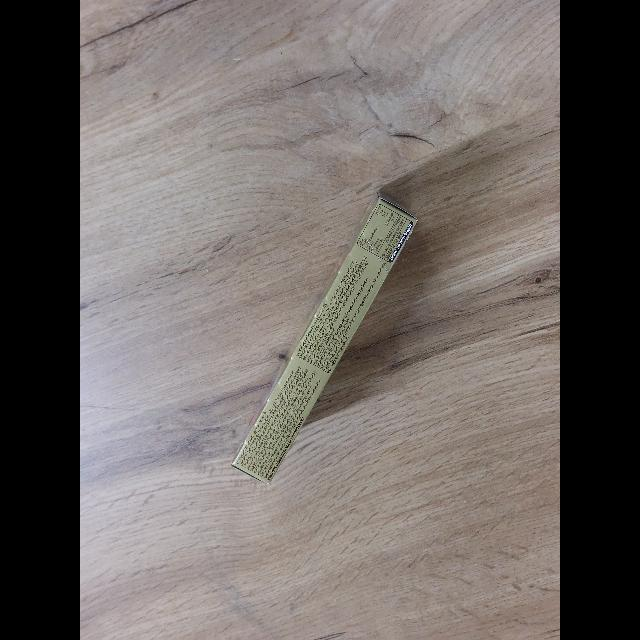banh_toppo_socola: (232, 196, 417, 483)
